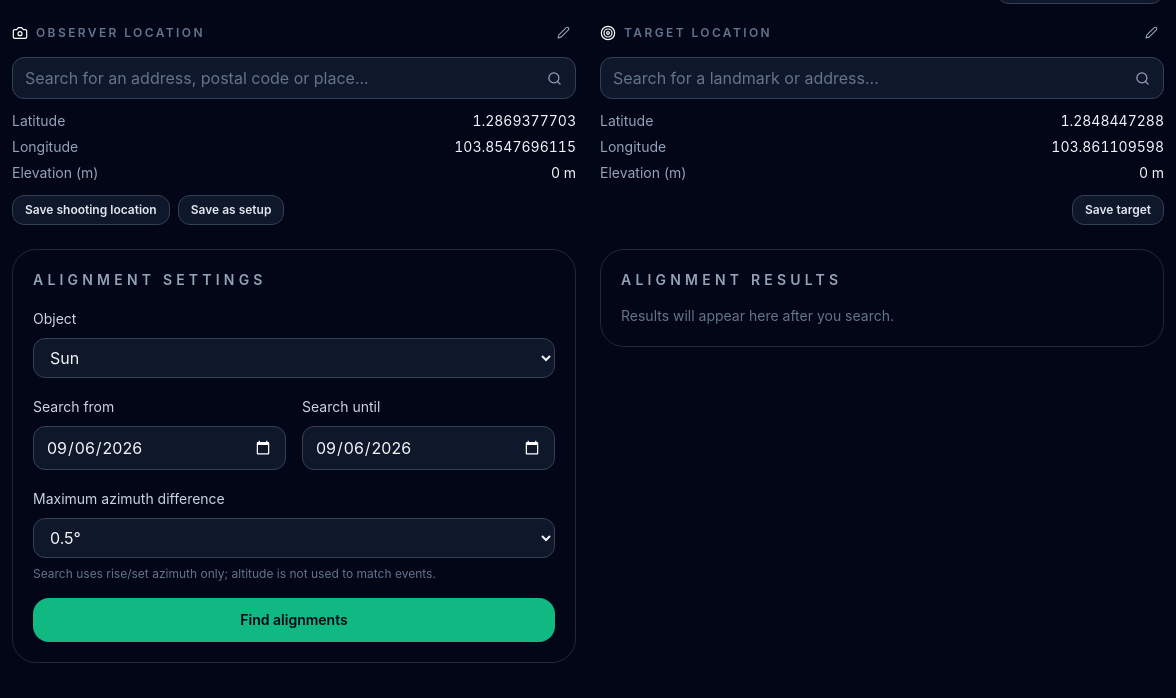
Scenario: AlignmentFinder result filters › shows the Moon phase filter only when the object is Moon
Expected: the text "Moon phase" is not shown
Expected: the field labelled "Waxing Gibbous" is not shown
Select "Moon" in the dropdown labelled "Object" at (294, 358), box [33,338,555,378]
(page scrolled)
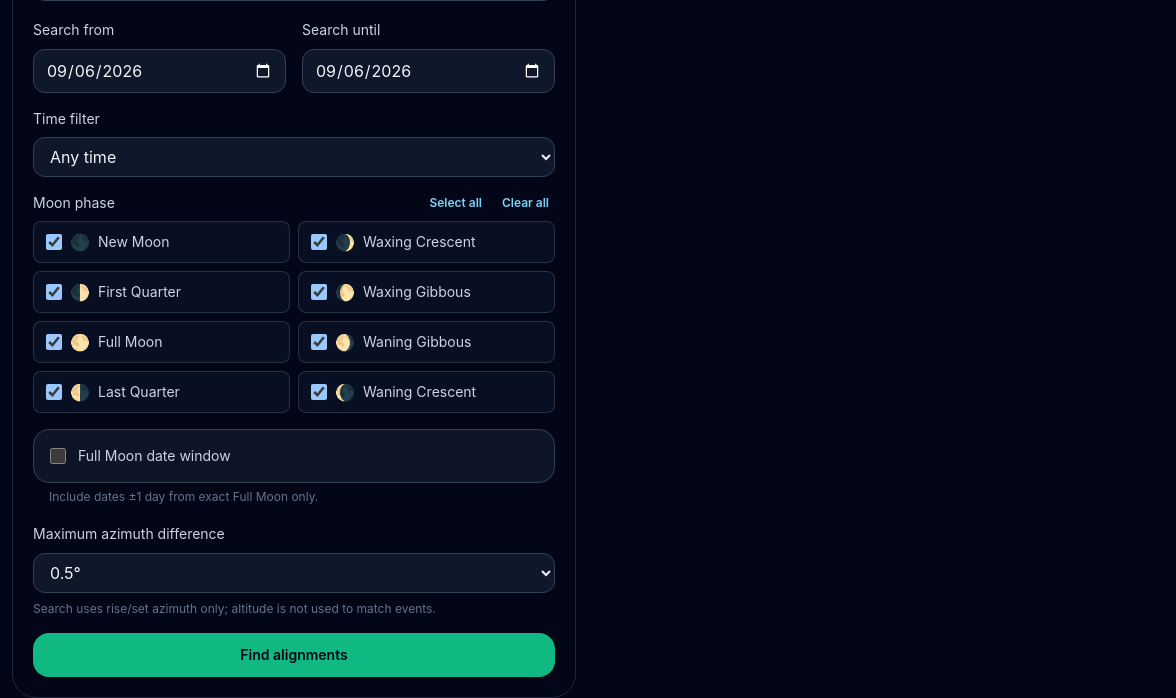
Expected: the text "Moon phase" is shown, [33,193,115,213]
Expected: the checkbox labelled "New Moon" is shown, [46,234,62,250]
Expected: the checkbox labelled "Waxing Crescent" is shown, [311,234,327,250]
